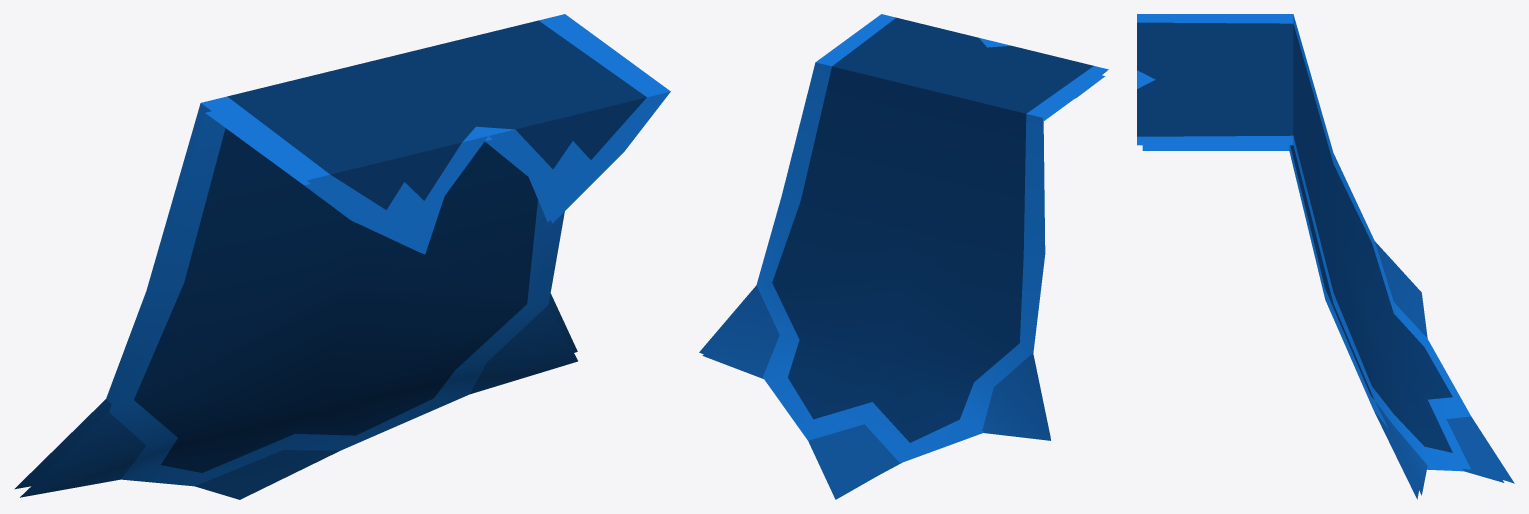
The model's file is Cape 02.FBX.
3 renders of one model, left to right at view 1: azimuth 30°, elevation 25°; view 2: azimuth 150°, elevation 25°; view 3: azimuth 270°, elevation 25°, orthographic. The views are drawn at different scales.
Visible parts, largest first — view 1: Cape 02; view 2: Cape 02; view 3: Cape 02.
Part boxes in pixels (bbox=[...]): Cape 02: bbox=[14, 14, 670, 499]; Cape 02: bbox=[699, 14, 1108, 499]; Cape 02: bbox=[1137, 14, 1514, 499].
Size of the model in its own units: 80.98 by 75.06 by 63.62.
1 material, 1 textured.
